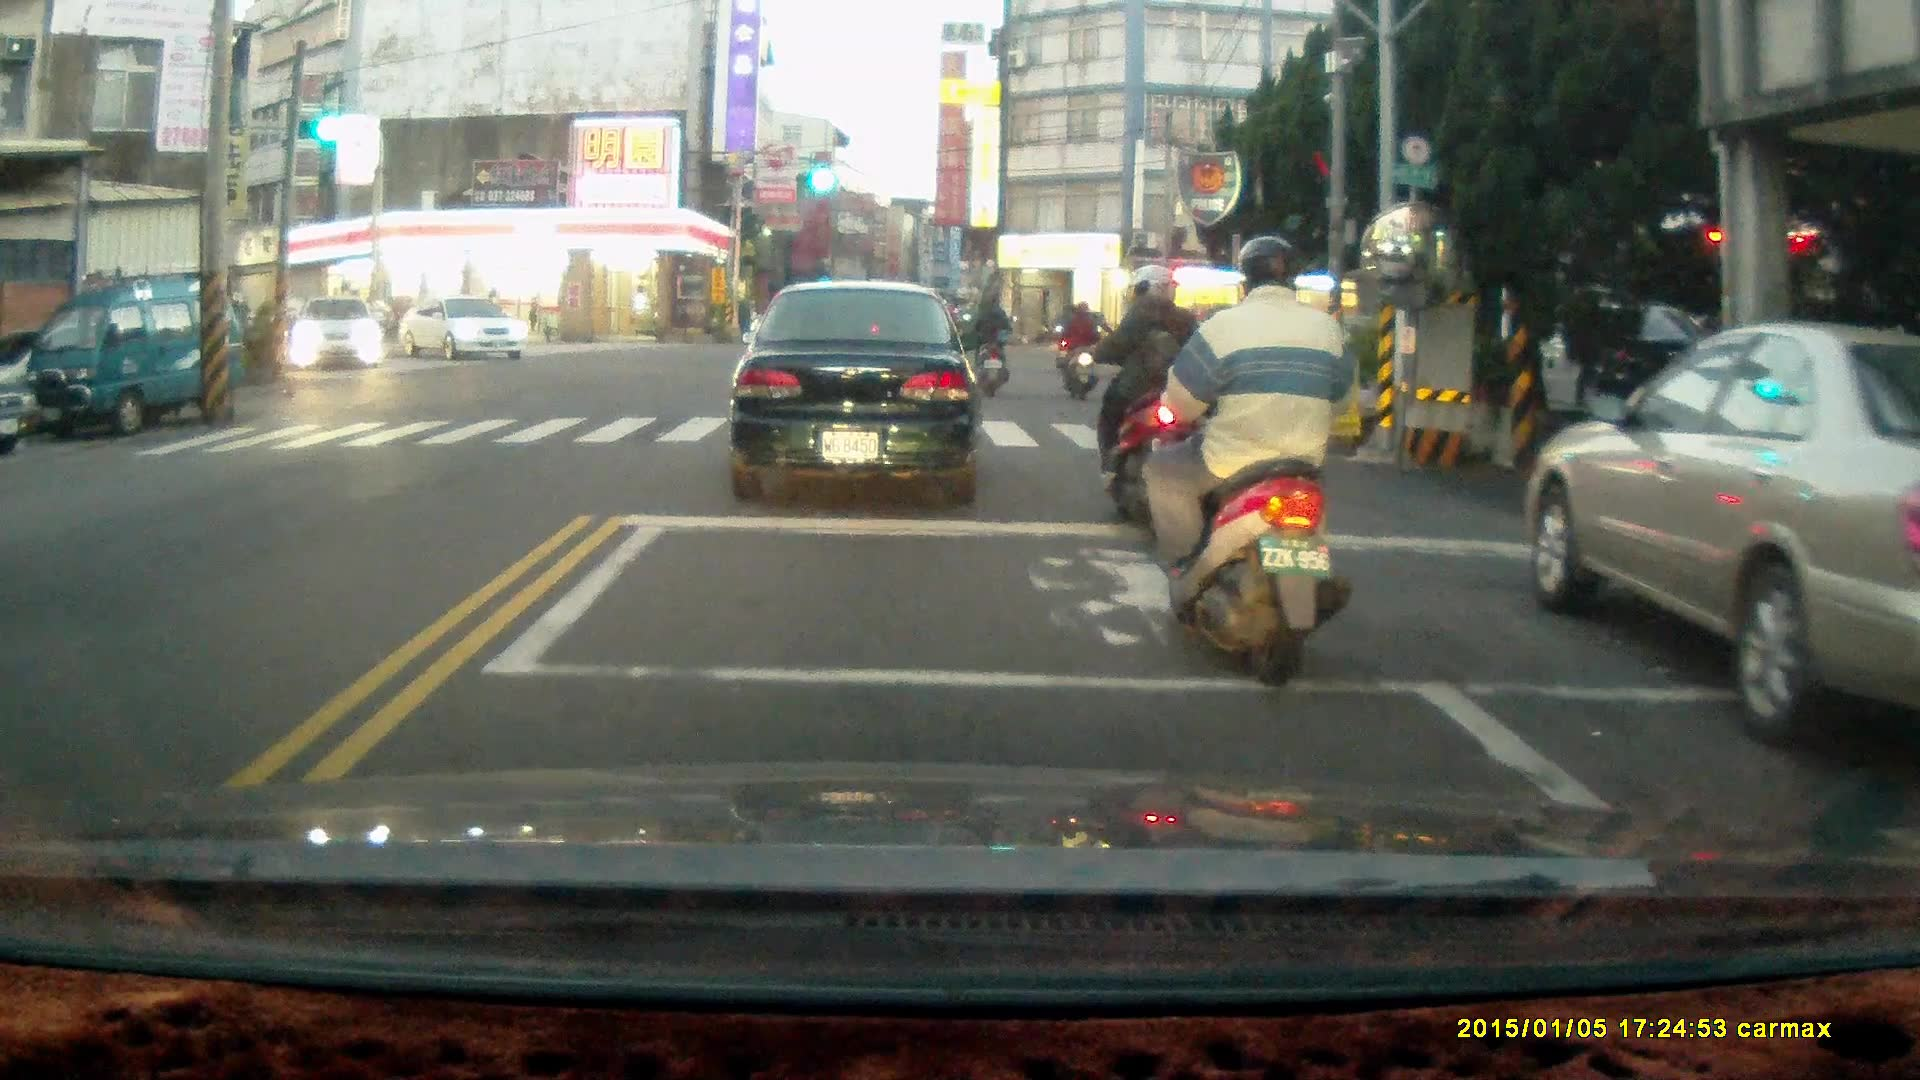rider: (1150, 234, 1365, 691), (1077, 257, 1213, 537), (960, 285, 1020, 395), (1056, 299, 1099, 401)
vehicle: (1523, 319, 1920, 761), (722, 276, 985, 504), (23, 271, 252, 437), (399, 294, 529, 363), (285, 295, 390, 371)
